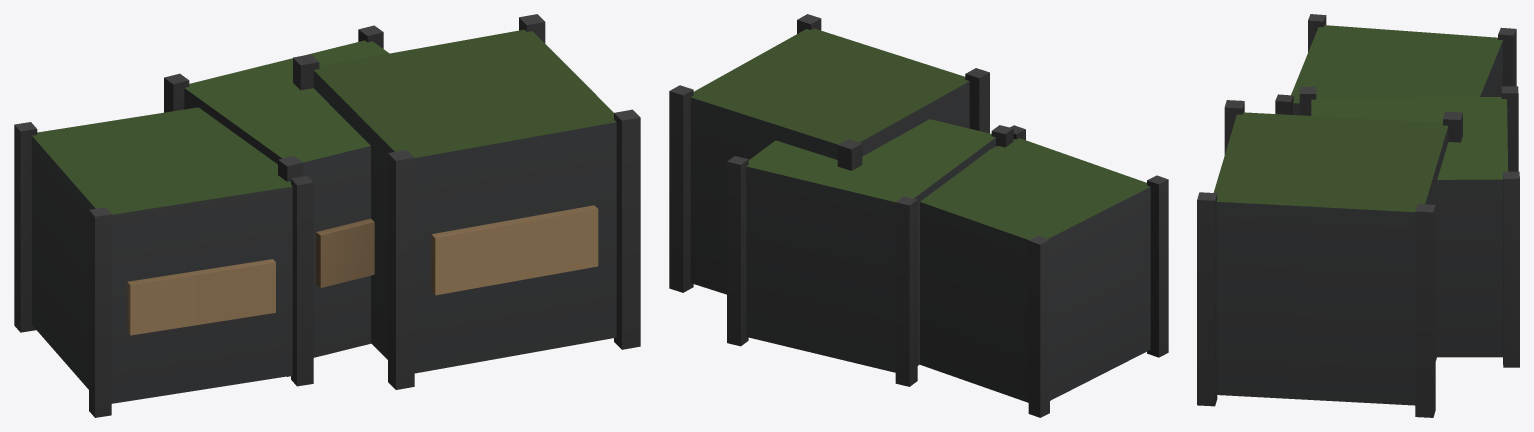
File: obj_cajas_2.glb
The picture shows the model from 3 angles, left to right: view 1: azimuth 30°, elevation 25°; view 2: azimuth 150°, elevation 25°; view 3: azimuth 270°, elevation 25°; orthographic projection. The views are drawn at different scales.
Visible parts, largest first — view 1: propforge-libre-cajas; view 2: propforge-libre-cajas; view 3: propforge-libre-cajas.
Part boxes in pixels (<box>): propforge-libre-cajas: <box>14,14,640,417</box>; propforge-libre-cajas: <box>669,14,1168,417</box>; propforge-libre-cajas: <box>1197,14,1519,417</box>.
Bounding box in the file's own units: 1.04 × 0.446 × 0.6347.
